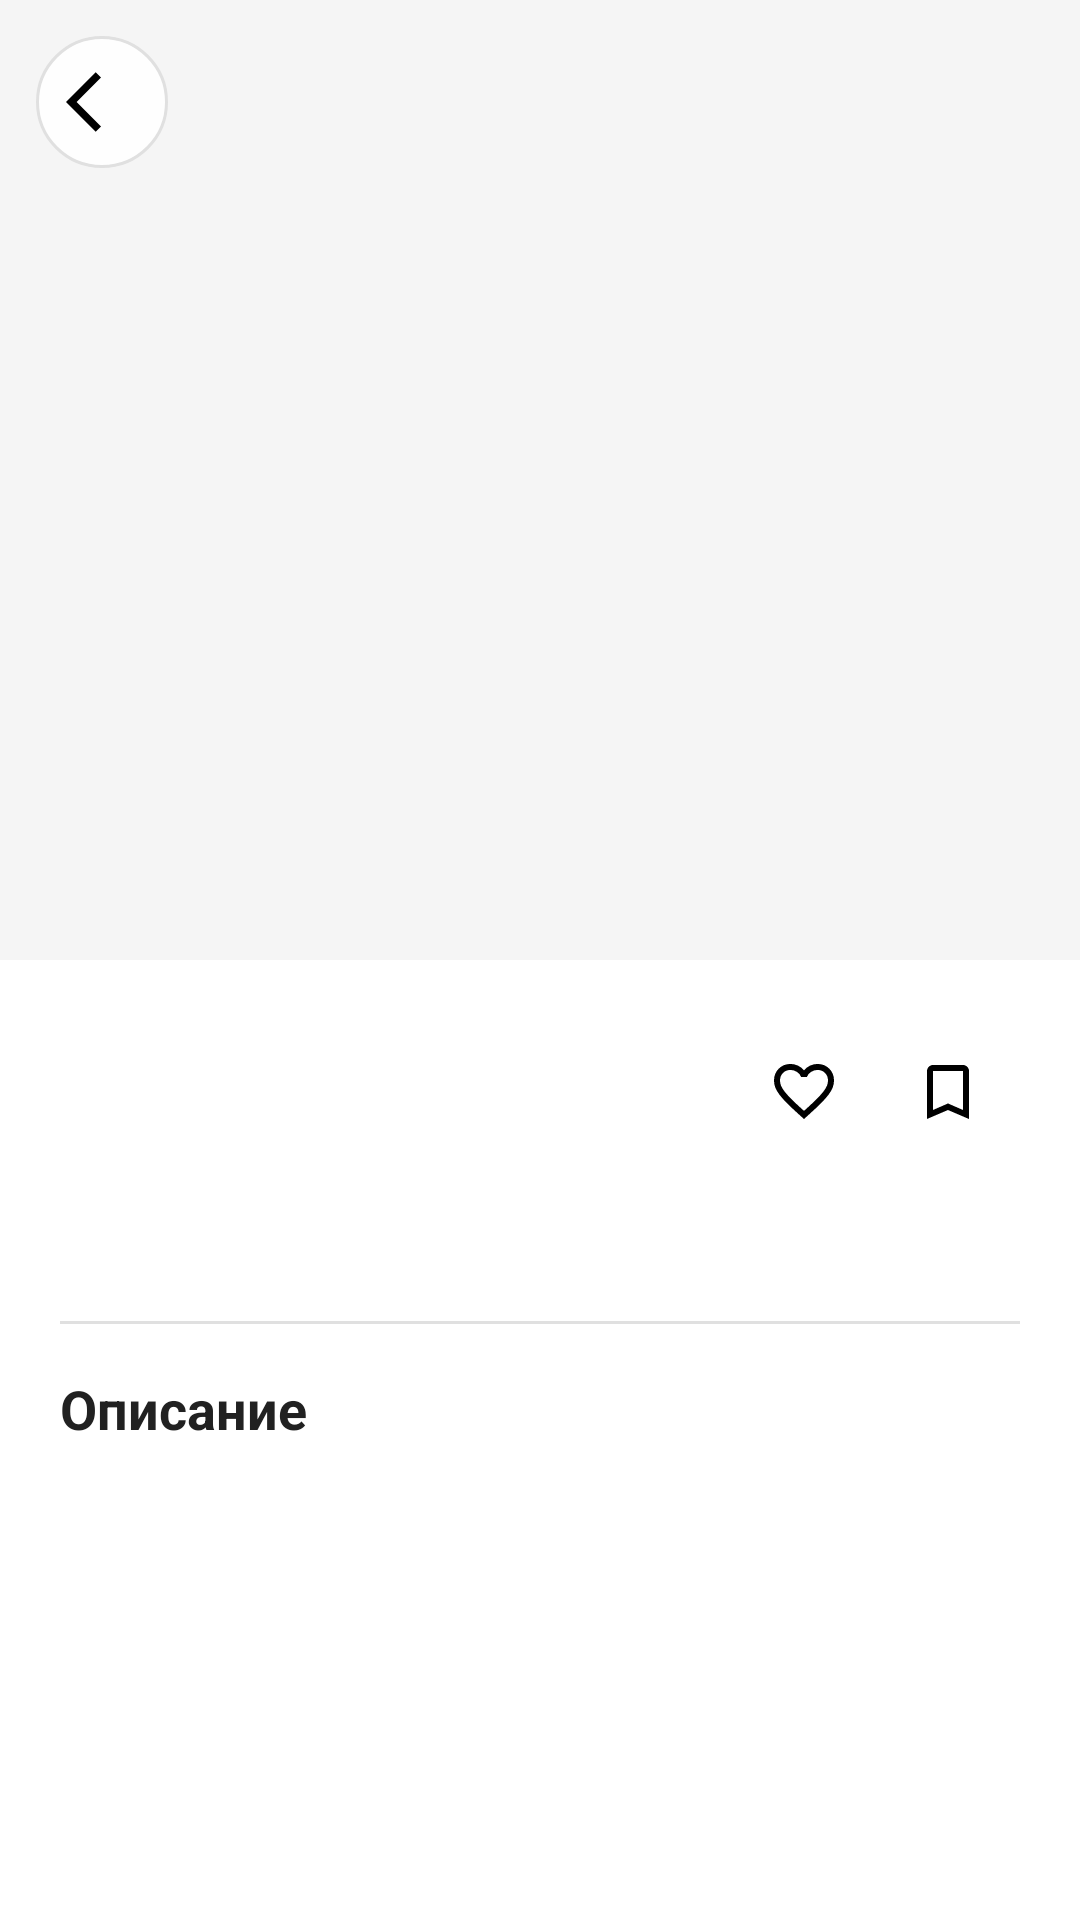

Icon bounding boxes for this 1080px×1920px phone screenshot, format (x1, y1, x2, y2):
Добавить в избранное: (774, 1064, 834, 1119)
Назад: (36, 36, 168, 168)
